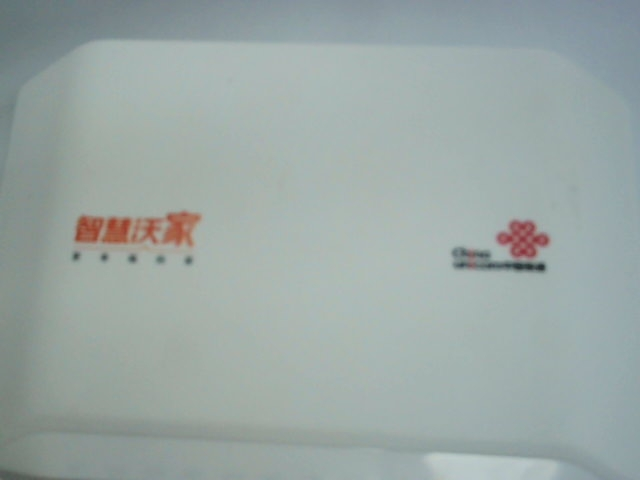AC_ChinaUnicom: (441, 203, 565, 290)
